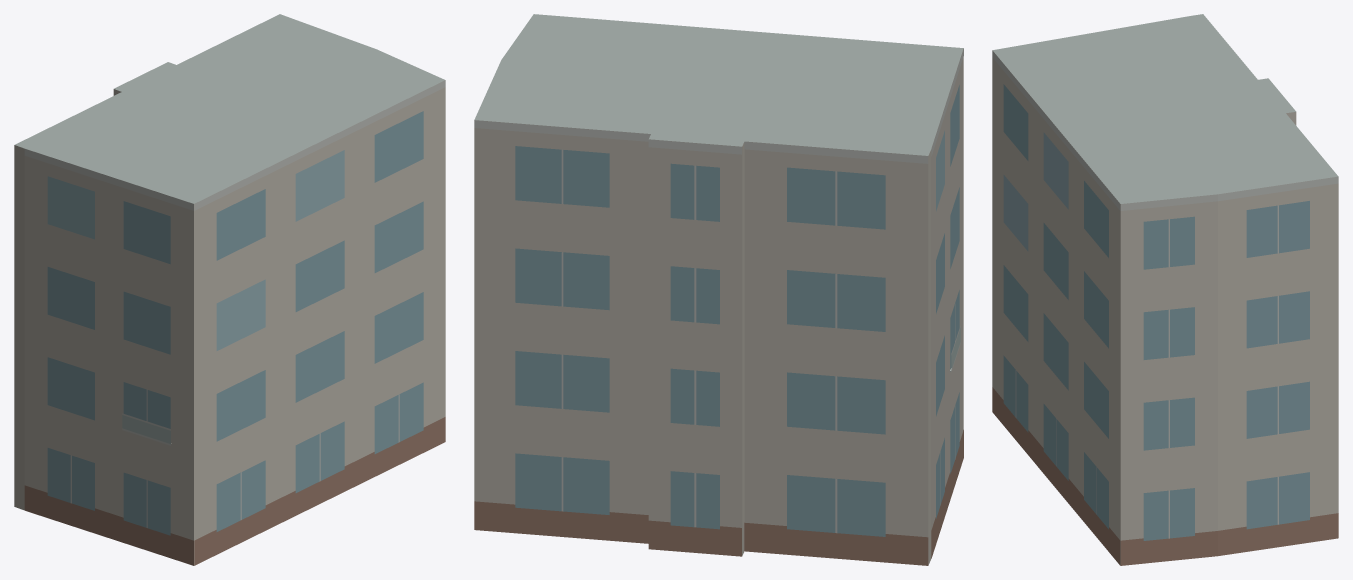
File: survey-upis-32610809.glb
3 renders of one model, left to right at view 1: azimuth 30°, elevation 25°; view 2: azimuth 150°, elevation 25°; view 3: azimuth 270°, elevation 25°, orthographic. The views are drawn at different scales.
Parts seen in each view (by area): view 1: survey-upis-32610809.tmp; view 2: survey-upis-32610809.tmp; view 3: survey-upis-32610809.tmp.
Part boxes in pixels (x1=…): survey-upis-32610809.tmp: x1=14, y1=14, x2=445, y2=565; survey-upis-32610809.tmp: x1=474, y1=14, x2=963, y2=565; survey-upis-32610809.tmp: x1=992, y1=14, x2=1338, y2=565.
Bounding box in the file's own units: 14.2 × 12.59 × 10.93.
